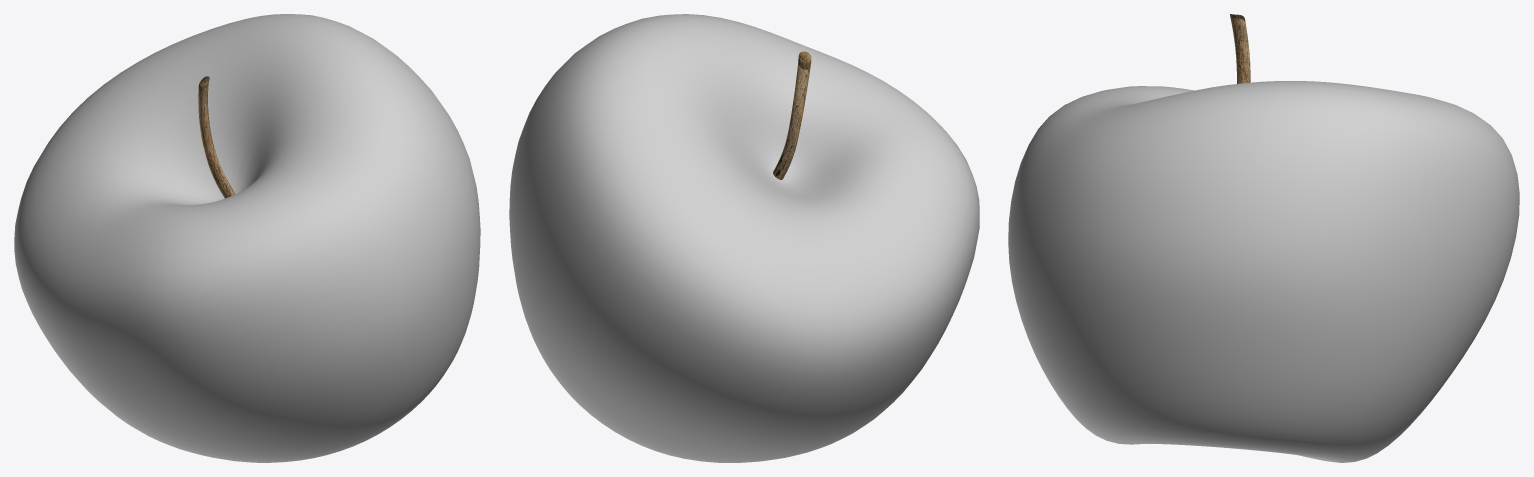
The model's file is Apple.fbx.
The picture shows the model from 3 angles, left to right: view 1: azimuth 30°, elevation 25°; view 2: azimuth 150°, elevation 25°; view 3: azimuth 270°, elevation 25°; orthographic projection. The views are drawn at different scales.
Parts seen in each view (by area): view 1: Apple.001; view 2: Apple.001; view 3: Apple.001.
Boxes of the visible parts, left/top/right/bottom form: Apple.001: left=14, top=14, right=480, bottom=462; Apple.001: left=509, top=14, right=979, bottom=462; Apple.001: left=1008, top=14, right=1519, bottom=462.
Bounding box in the file's own units: 64.08 × 59.51 × 66.91.
